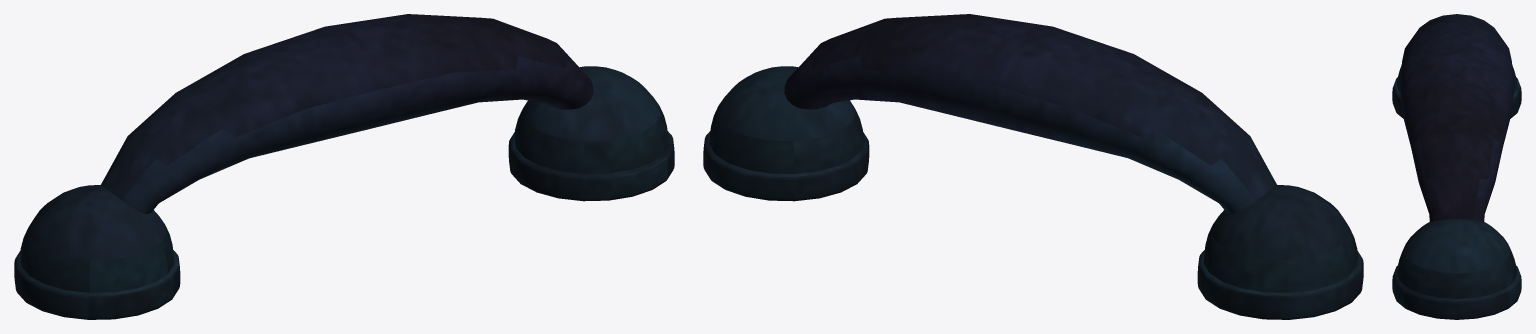
The model's file is gancho.fbx.
The picture shows the model from 3 angles, left to right: view 1: azimuth 30°, elevation 25°; view 2: azimuth 150°, elevation 25°; view 3: azimuth 270°, elevation 25°; orthographic projection. The views are drawn at different scales.
Parts seen in each view (by area): view 1: polySurface2; view 2: polySurface2; view 3: polySurface2.
Boxes of the visible parts, bbox=[...] form: polySurface2: bbox=[14, 14, 674, 319]; polySurface2: bbox=[703, 14, 1363, 319]; polySurface2: bbox=[1392, 14, 1521, 319].
Size of the model in its own units: 27.49 by 7.99 by 6.23.
